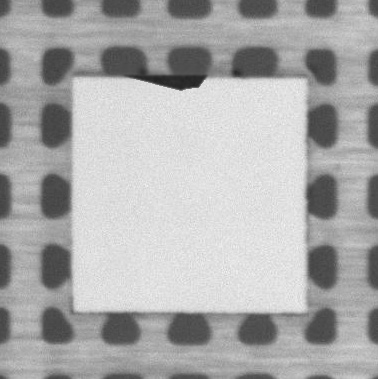DIE_BROKEN: (124, 71, 209, 91)
